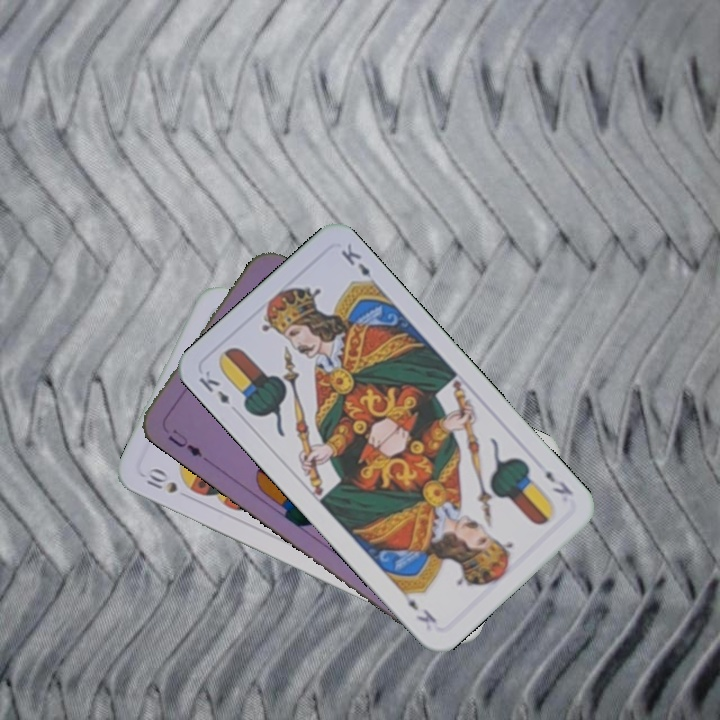EK: (534, 457, 576, 498), (194, 367, 232, 407)
EU: (164, 425, 205, 460)
S10: (142, 465, 180, 496)
